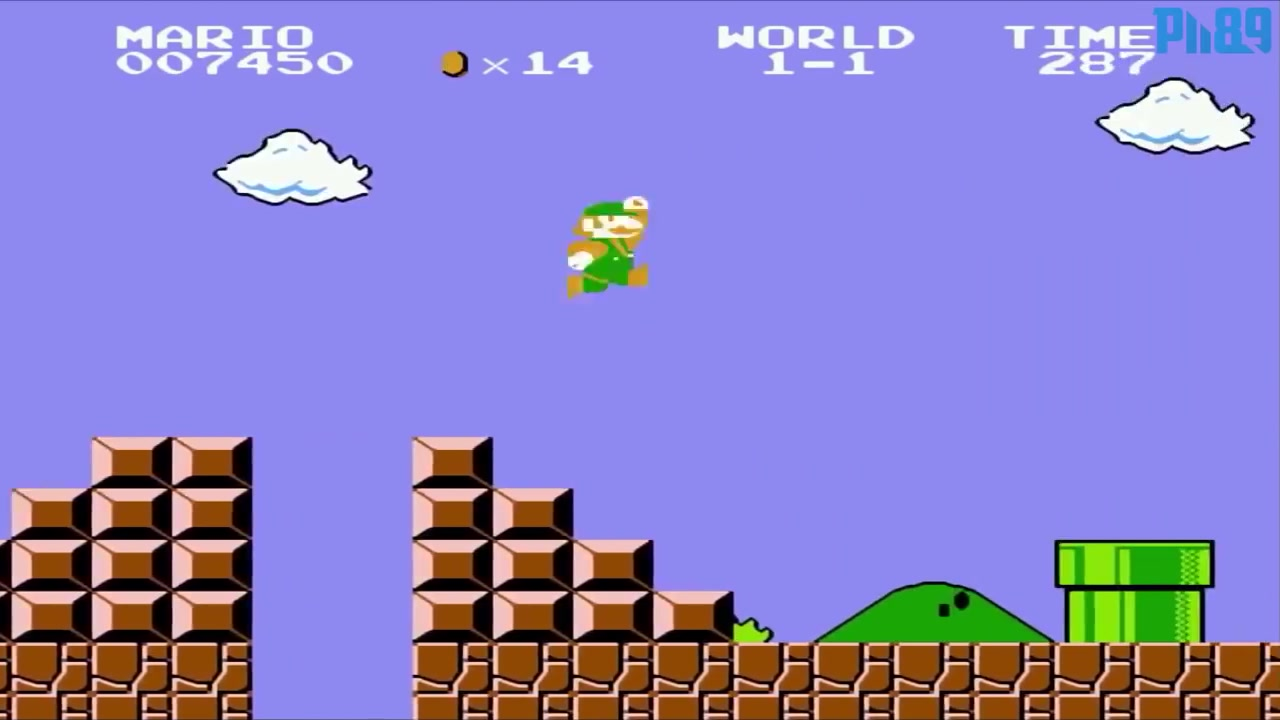mario: (561, 191, 678, 304)
